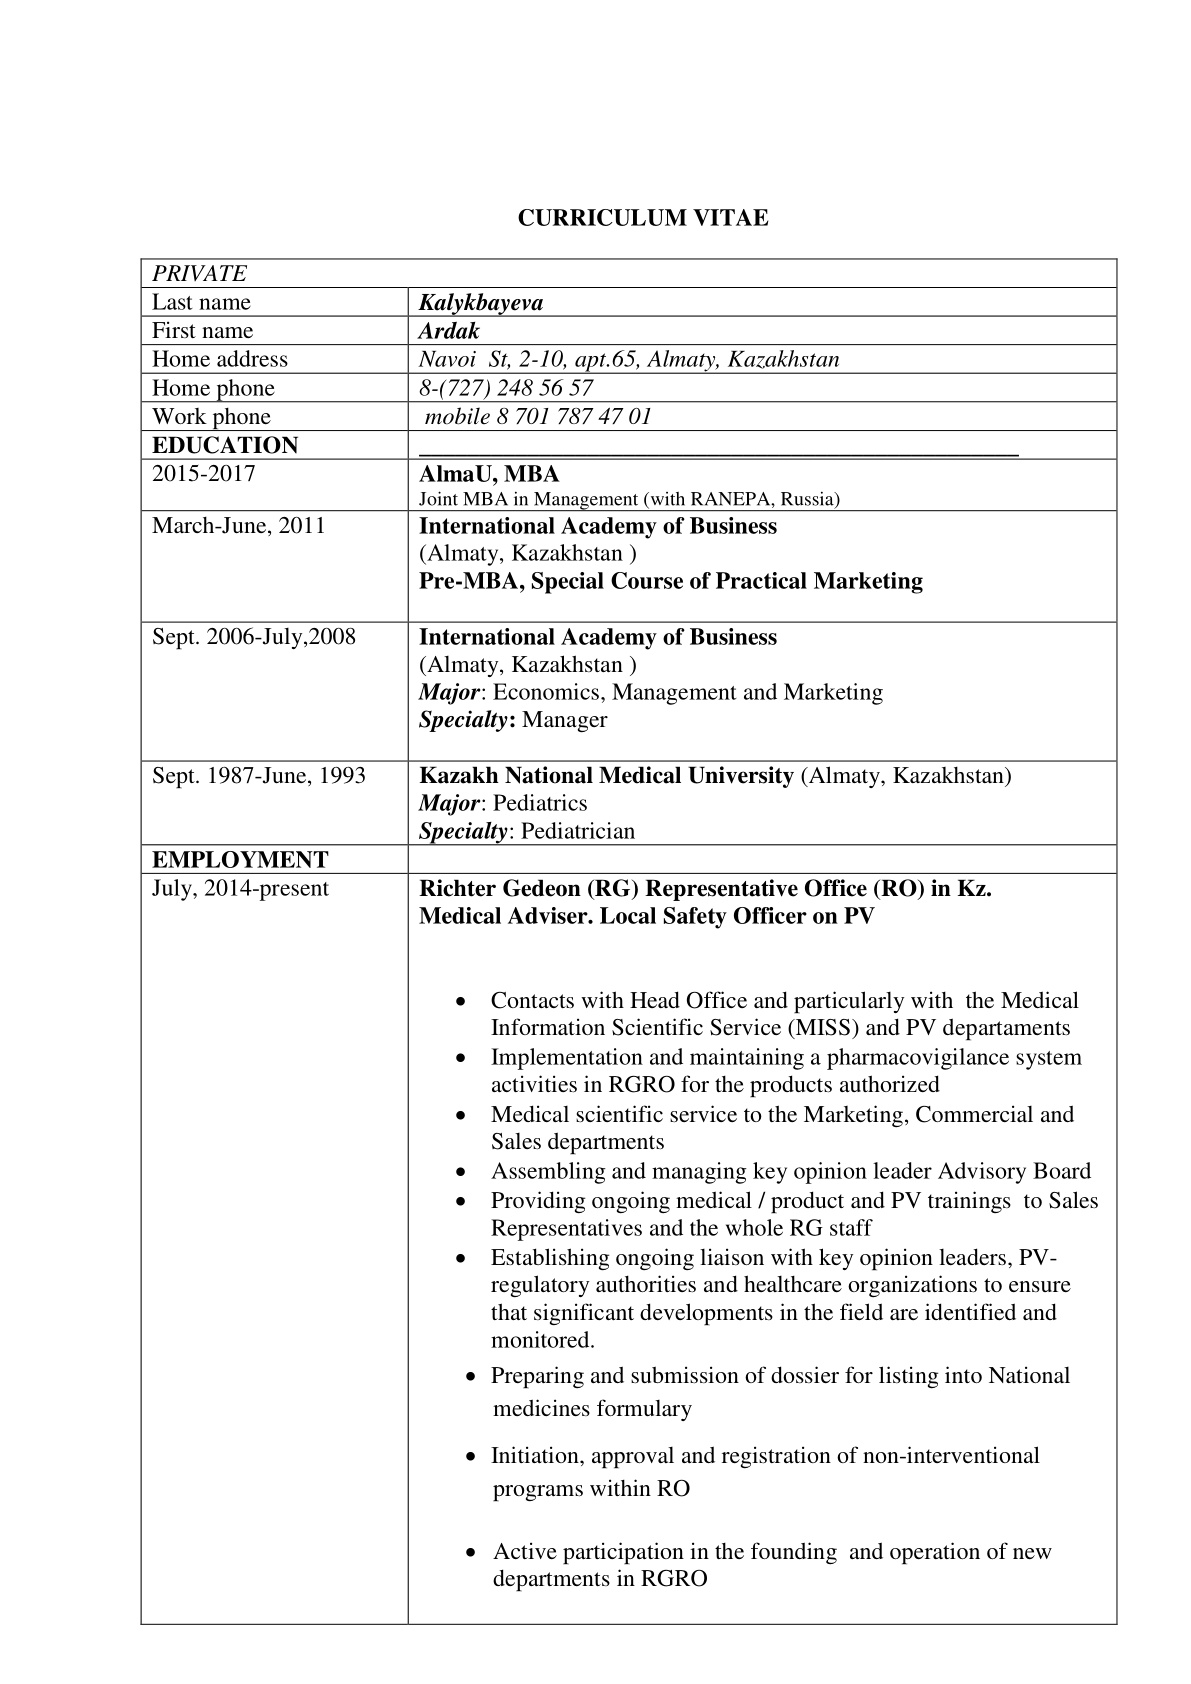merged_cells: (139, 258, 1118, 1626)
